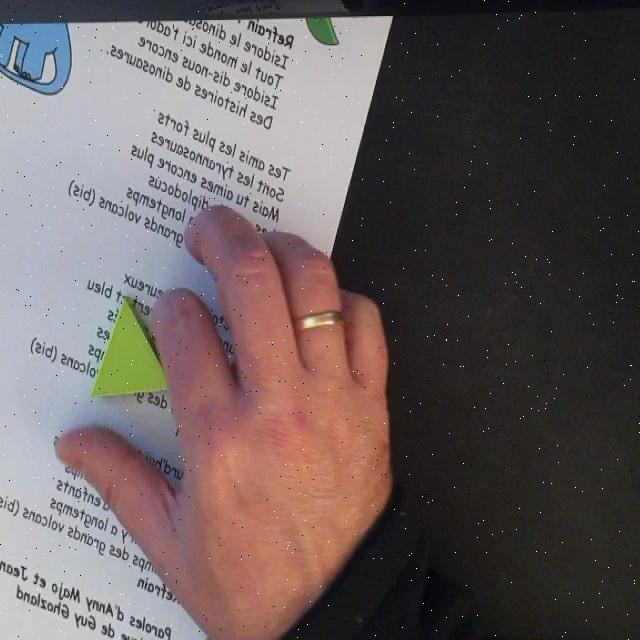triangle: (88, 294, 178, 402)
